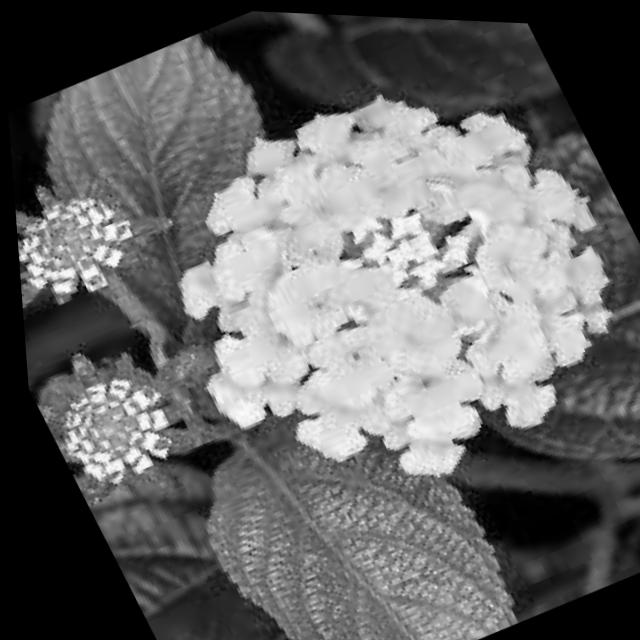Flower: (121, 14, 640, 525)
